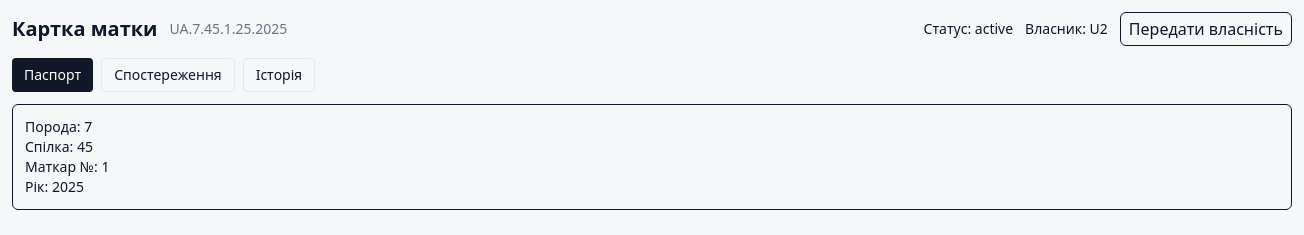
Test: QueenCard page › non-owner cannot add observation
The image size is (1304, 235).
Click the button "Спостереження": (168, 75) [101,58,235,92]
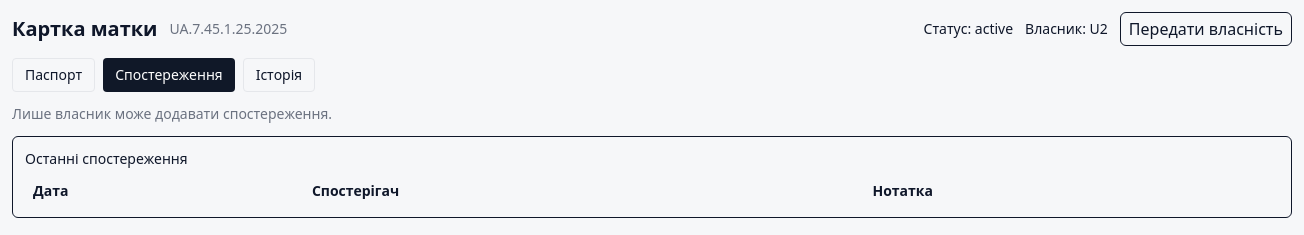
Check: the text "Лише власник може додавати спостереження." is shown, box [12,104,332,123]
